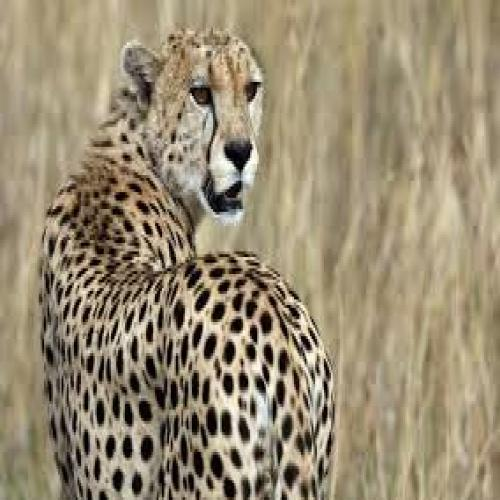cheetah-endangered: (42, 34, 332, 500)
